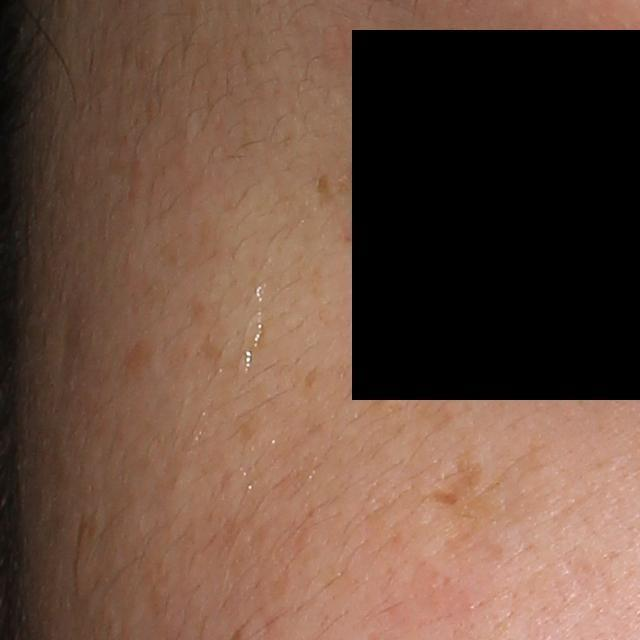melasma: (425, 439, 555, 543), (118, 338, 156, 380), (312, 171, 339, 209), (300, 365, 321, 392)
